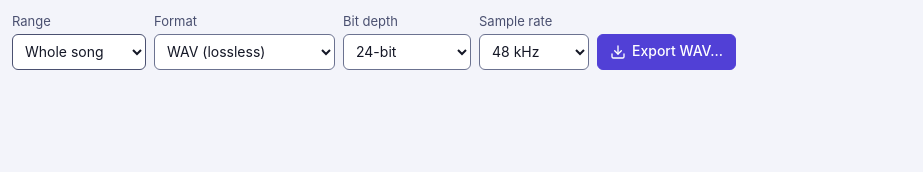
it: the loop region can be exported instead
Select "Loop region" in the dropdown named "Export range" at (79, 52), box [12,34,146,70]
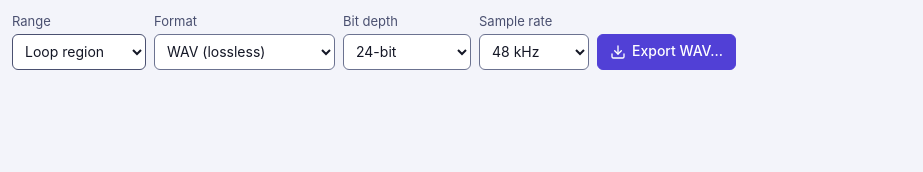
Click the button "Export WAV…".
click(666, 52)  # box [597,34,736,70]
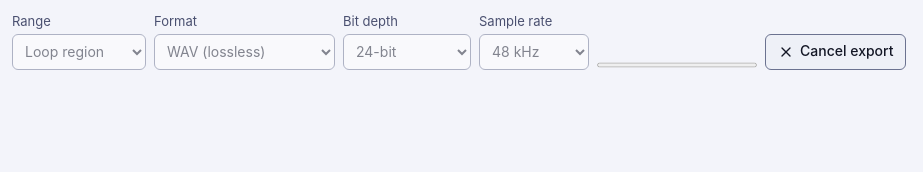
Expected: the progress indicator named "Export progress" is shown, [597,60,757,70]
